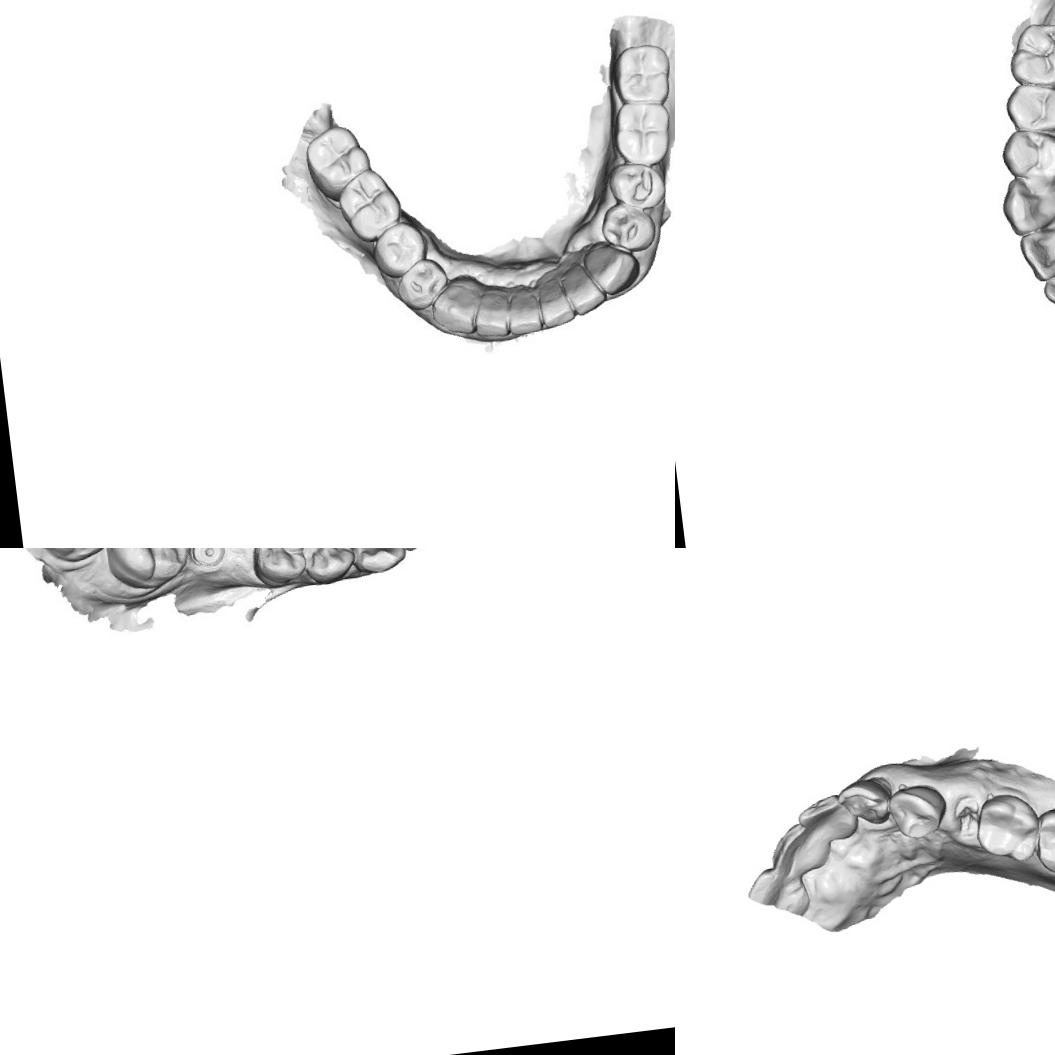canine: (993, 172, 1055, 238), (426, 272, 487, 338), (832, 772, 895, 832), (582, 239, 642, 300), (343, 548, 408, 578)
implant: (188, 548, 232, 572)
incisor: (744, 862, 812, 921), (766, 820, 833, 878), (794, 790, 861, 847), (560, 262, 608, 318), (1014, 223, 1055, 286), (502, 284, 548, 340), (535, 272, 577, 330), (470, 288, 513, 342), (1041, 262, 1055, 330)
molar: (301, 122, 375, 204), (970, 789, 1046, 868), (334, 164, 407, 246), (607, 40, 675, 110), (608, 97, 675, 168), (101, 548, 197, 593), (1001, 16, 1055, 92), (1030, 802, 1055, 877)
premolar: (886, 780, 950, 843), (368, 220, 430, 282), (596, 198, 660, 256), (997, 121, 1055, 183), (392, 255, 449, 316), (605, 160, 669, 213), (1001, 76, 1055, 136), (247, 548, 311, 593), (295, 548, 356, 586)
